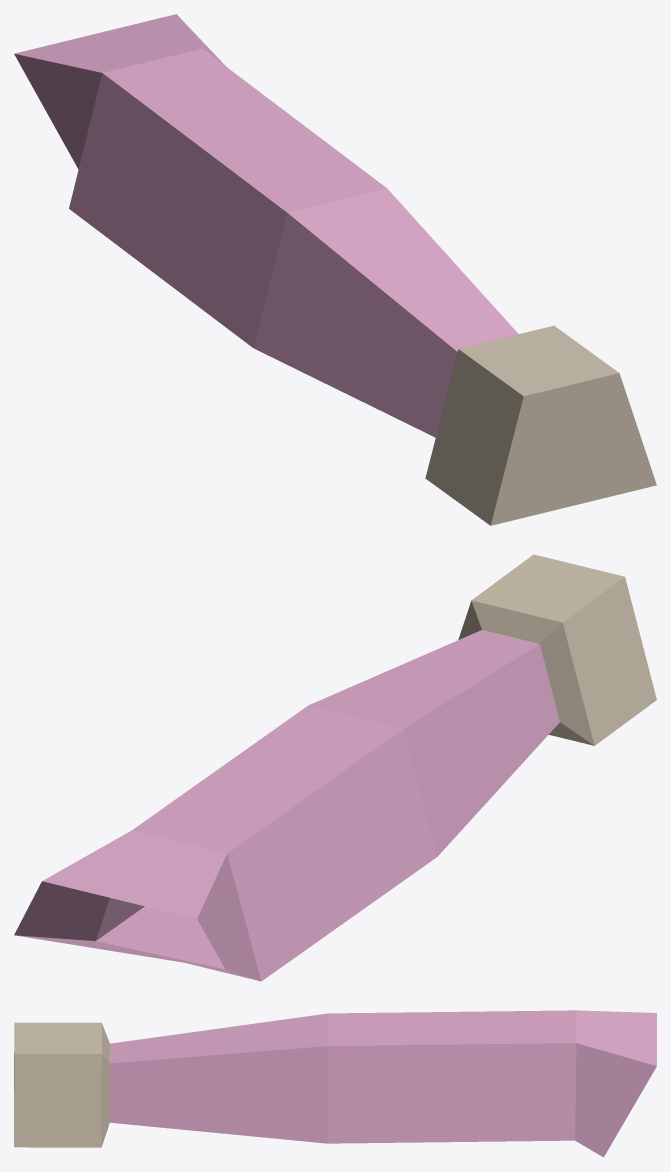
The model's file is RightHand.glb.
3 renders of one model, top to bottom at view 1: azimuth 30°, elevation 25°; view 2: azimuth 150°, elevation 25°; view 3: azimuth 270°, elevation 25°, orthographic. The views are drawn at different scales.
Visible parts, largest first — view 1: RightHand; view 2: RightHand; view 3: RightHand.
Part boxes in pixels (box(x1,y1,x2,y2)): RightHand: box(14, 14, 656, 525); RightHand: box(14, 554, 656, 981); RightHand: box(14, 1010, 656, 1157).
Bounding box in the file's own units: 0.728 × 0.4058 × 2.54.
1 material, 1 textured.
